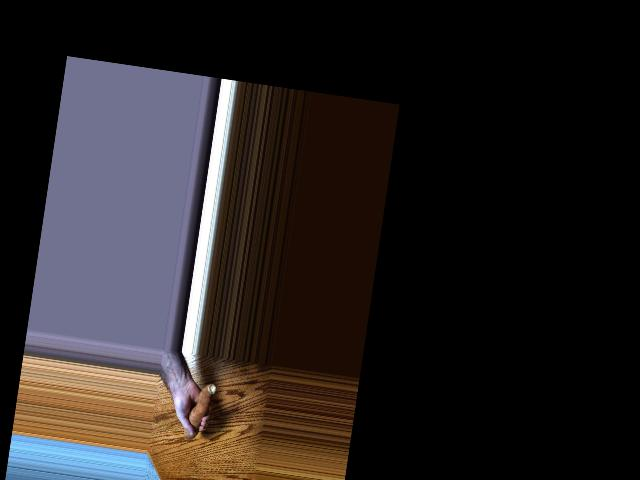sweet_potato: (183, 377, 216, 444)
